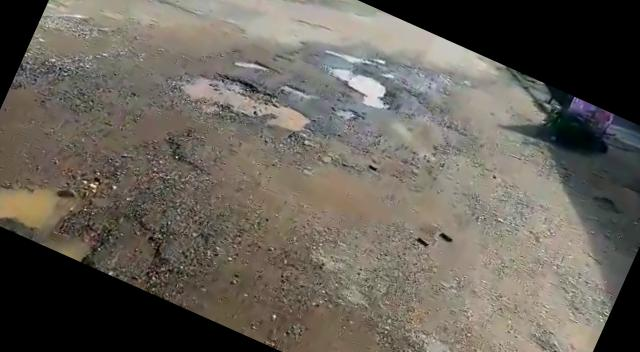pothole: (163, 51, 314, 150), (0, 156, 108, 262), (319, 56, 395, 110), (230, 49, 284, 84), (332, 46, 372, 72), (278, 80, 314, 101)
